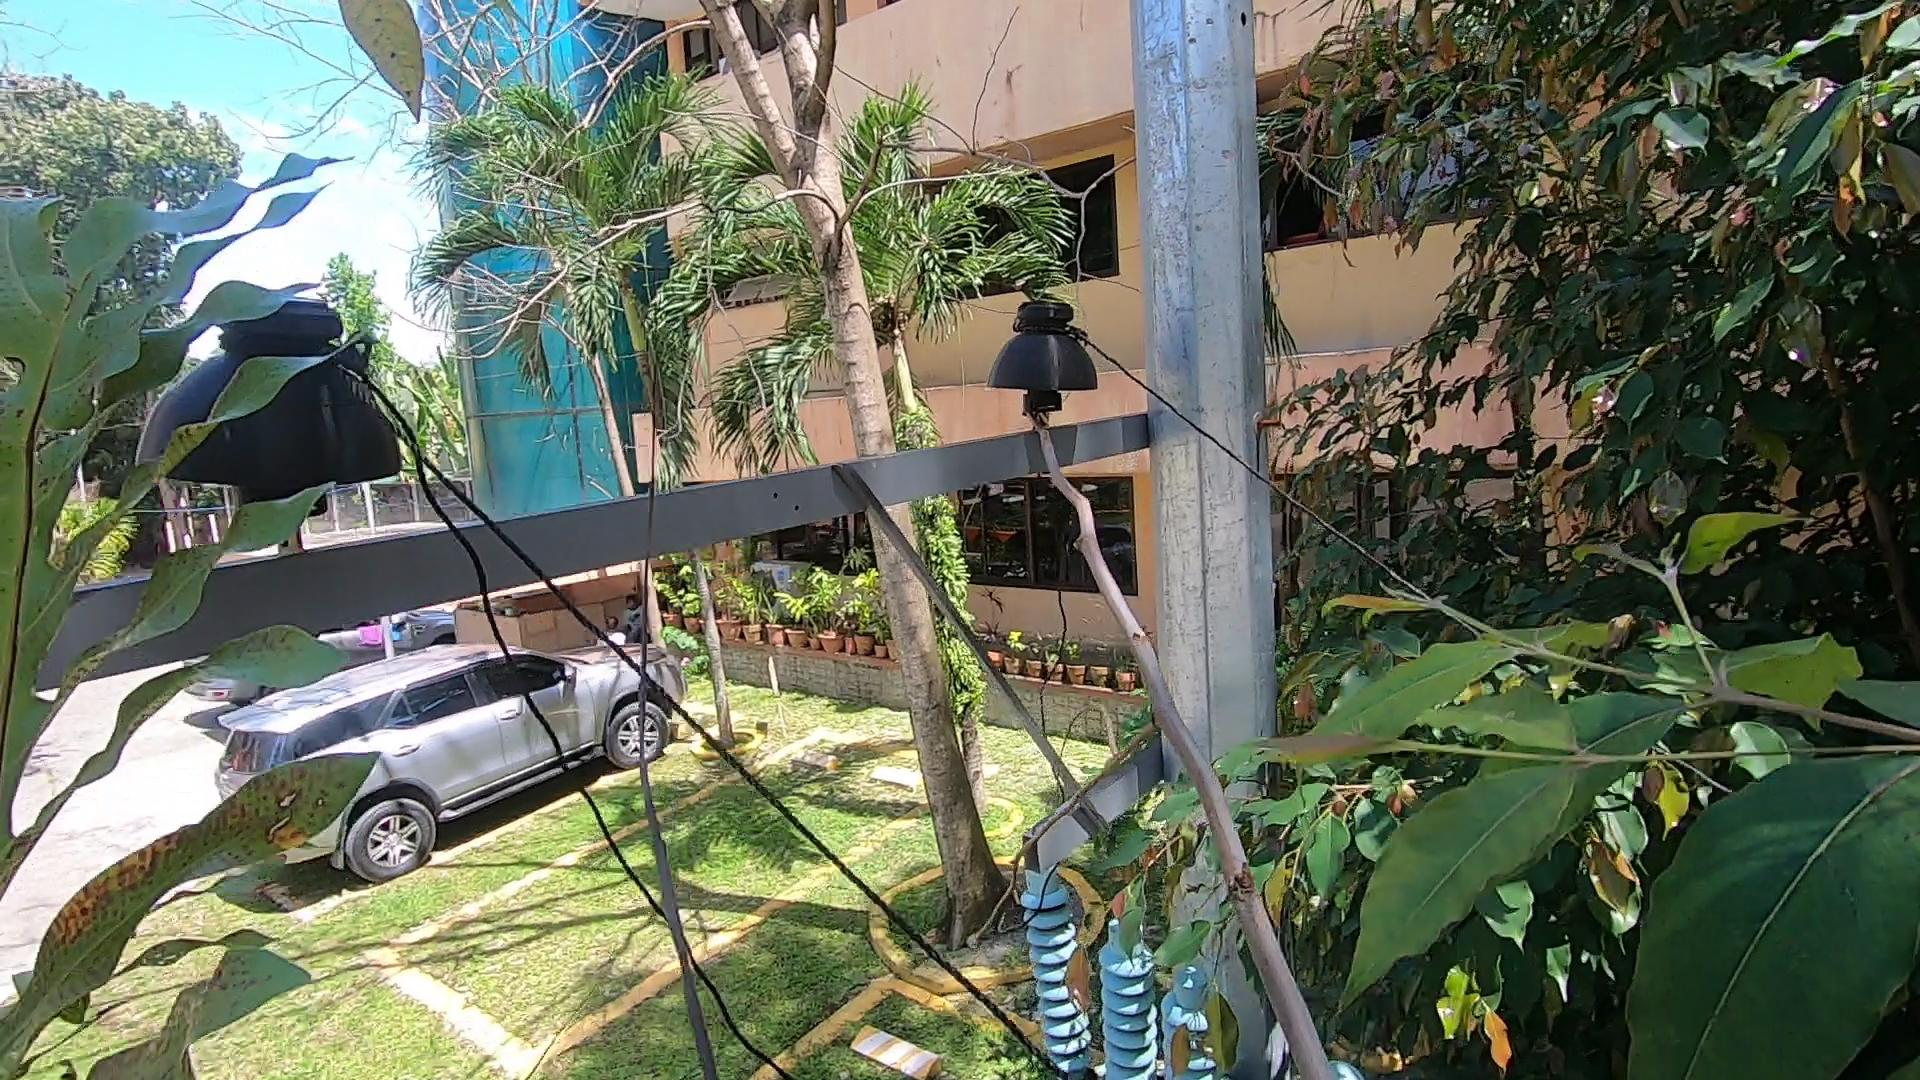branch with leaves: (1056, 752, 1324, 1080)
leaf: (1, 132, 526, 984)
tree branch: (997, 378, 1414, 1080)
